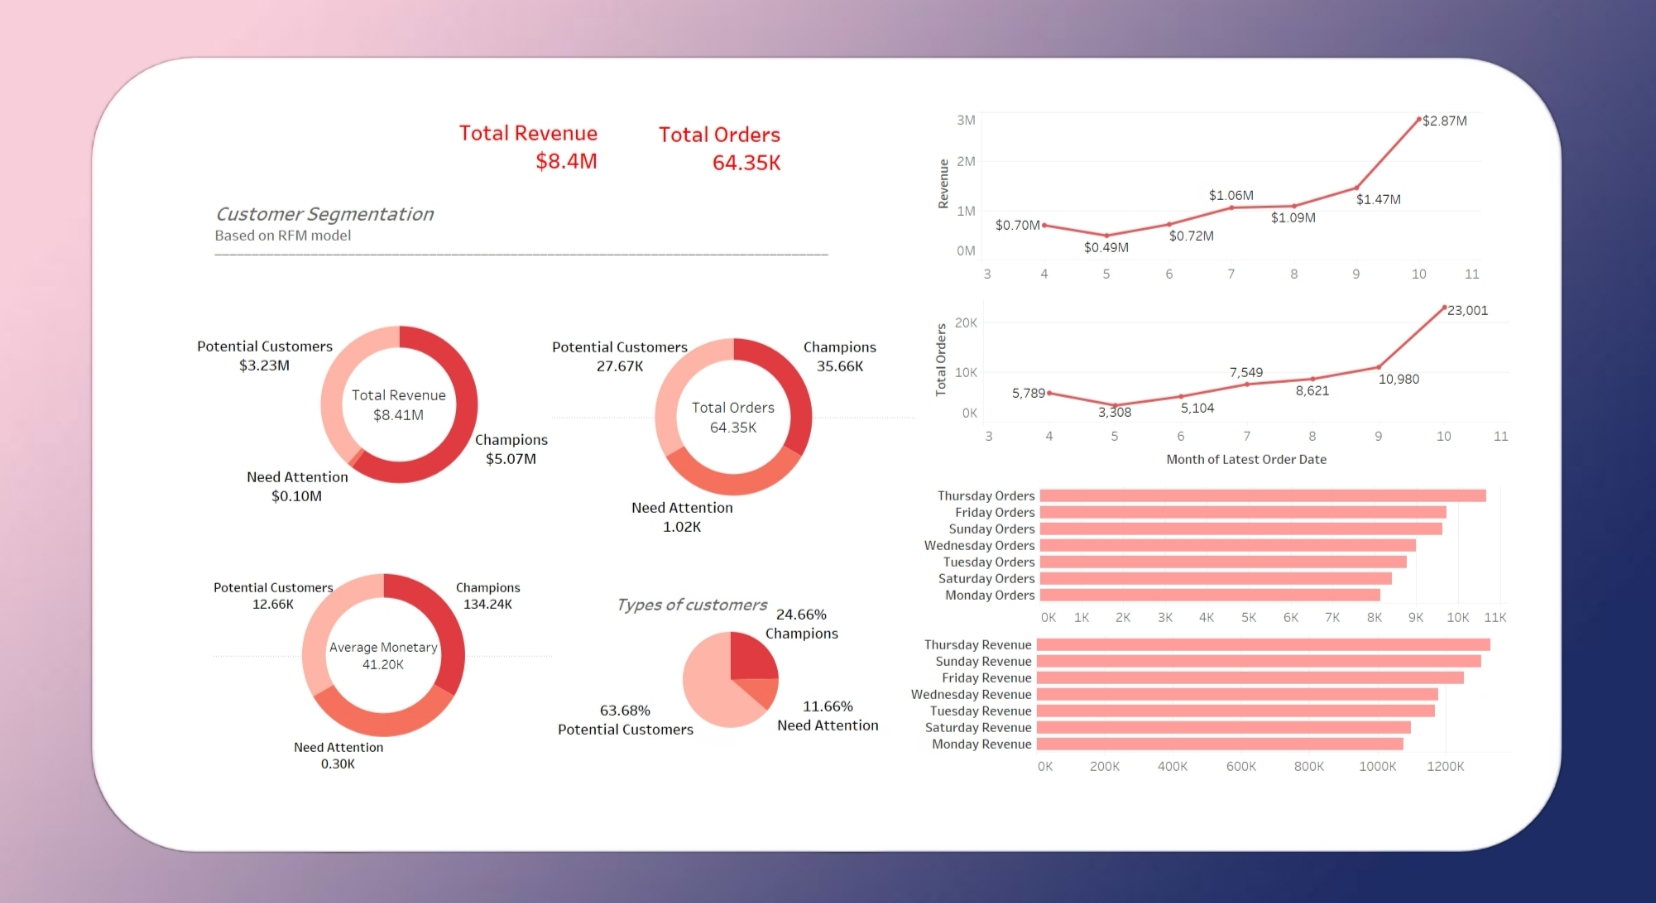

The dashboard page shown, as its layout file describes it:
{"tool":"tableau","page":{"name":"Dashboard 1","canvas":[1600,900],"ordinal":0},"visuals":[{"type":"worksheet","title":"Last order vs Revenue","mark":"Automatic","rows":["REVENUE"],"cols":["LATEST_ORDER_DATE"],"box":[889,11,668,210]},{"type":"worksheet","title":"Revenue","mark":"Automatic","box":[294,20,236,73]},{"type":"worksheet","title":"Orders","mark":"Automatic","box":[555,23,183,83]},{"type":"text","box":[23,109,351,75]},{"type":"text","box":[23,163,789,30]},{"type":"worksheet","title":"Donut Revenue","mark":"Pie","rows":["Calculation_1564156454977159168","Calculation_1564156454977159168"],"box":[5,216,489,301]},{"type":"worksheet","title":"Donut Orders","mark":"Pie","rows":["Calculation_1564156454977159168","Calculation_1564156454977159168"],"box":[434,221,439,321]},{"type":"worksheet","title":"Last Order vs total order","mark":"Automatic","rows":["TOTAL_ORDERS"],"cols":["LATEST_ORDER_DATE"],"box":[886,240,706,210]},{"type":"worksheet","title":"Days Orders","mark":"Automatic","box":[883,466,707,182]},{"type":"worksheet","title":"Sheet 10","mark":"Pie","rows":["Calculation_1564156454977159168","Calculation_1564156454977159168"],"box":[25,522,411,295]},{"type":"worksheet","title":"Pie Chart -CS","mark":"Pie","box":[441,583,418,232]},{"type":"text","box":[507,592,190,30]}]}

Visuals, with their boxes on the page's 1600x900 design canvas (x1, y1, x2, y2). These are canvas units, not pixel positions in the 1656x903 screenshot, which may show the page scaled, cropped or inside an application window:
"Last order vs Revenue" worksheet: locate(889, 11, 1557, 221)
"Revenue" worksheet: locate(294, 20, 530, 93)
"Orders" worksheet: locate(555, 23, 738, 106)
text: locate(23, 109, 374, 184)
text: locate(23, 163, 812, 193)
"Donut Revenue" worksheet (Pie marks): locate(5, 216, 494, 517)
"Donut Orders" worksheet (Pie marks): locate(434, 221, 873, 542)
"Last Order vs total order" worksheet: locate(886, 240, 1592, 450)
"Days Orders" worksheet: locate(883, 466, 1590, 648)
"Sheet 10" worksheet (Pie marks): locate(25, 522, 436, 817)
"Pie Chart -CS" worksheet (Pie marks): locate(441, 583, 859, 815)
text: locate(507, 592, 697, 622)
